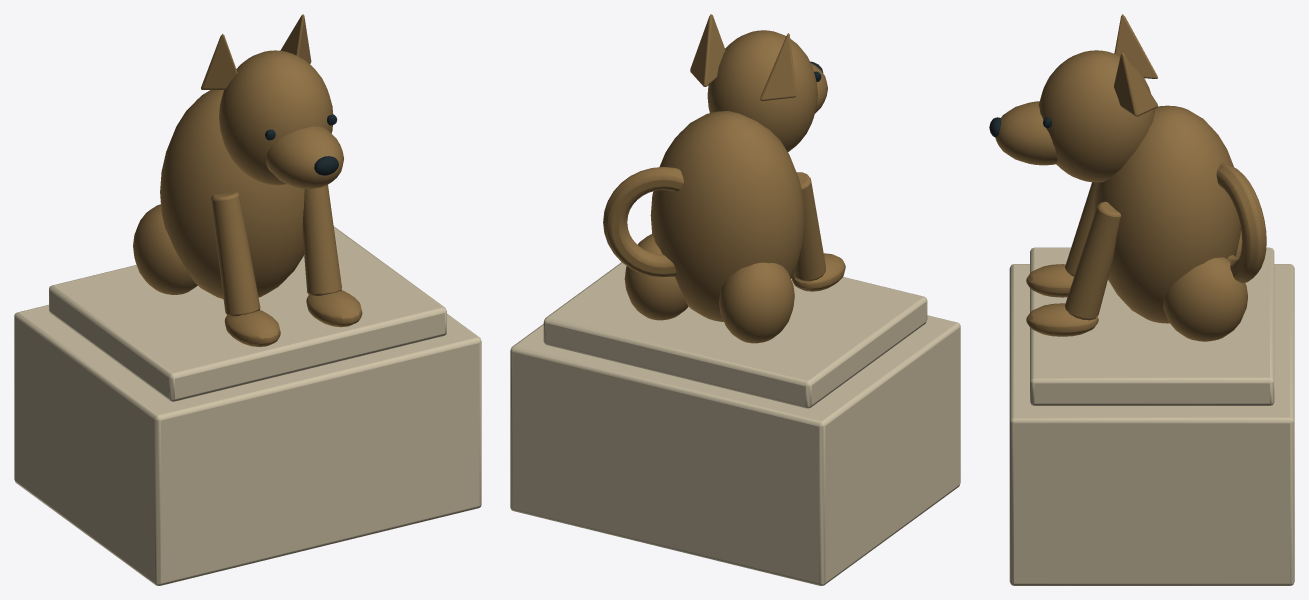
Rendered from meet_dog.glb.
The picture shows the model from 3 angles, left to right: view 1: azimuth 30°, elevation 25°; view 2: azimuth 150°, elevation 25°; view 3: azimuth 270°, elevation 25°; orthographic projection. The views are drawn at different scales.
Visible parts, largest first — view 1: Detail.meet_dog.Stone, Detail.meet_dog.Brass; view 2: Detail.meet_dog.Stone, Detail.meet_dog.Brass; view 3: Detail.meet_dog.Stone, Detail.meet_dog.Brass.
Part boxes in pixels (x1,y1,x2,y2): Detail.meet_dog.Stone: [14, 226, 481, 585]; Detail.meet_dog.Brass: [133, 14, 362, 346]; Detail.meet_dog.Stone: [510, 262, 960, 585]; Detail.meet_dog.Brass: [603, 14, 845, 343]; Detail.meet_dog.Stone: [1009, 247, 1294, 585]; Detail.meet_dog.Brass: [995, 14, 1266, 341].
Bounding box in the file's own units: 1.2 × 1.7 × 0.986.
